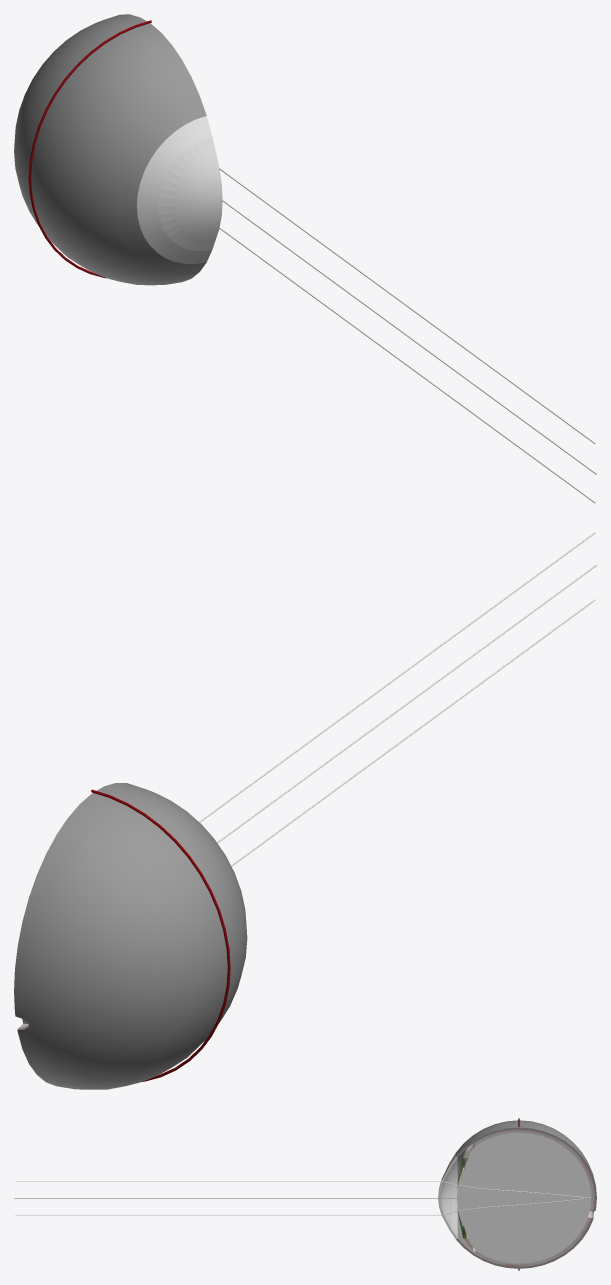
File: RegularEye.FBX
3 views of the same model, one above another, from view 1: azimuth 30°, elevation 25°; view 2: azimuth 150°, elevation 25°; view 3: azimuth 270°, elevation 25° (orthographic). The views are drawn at different scales.
Parts seen in each view (by area): view 1: bSclera, bCornea, pinEquator, Cylinder003, Cylinder004, Cylinder002; view 2: bSclera, pinEquator, Cylinder003, Cylinder002, Cylinder004; view 3: bCorpusVitreum, bSclera, bCornea, Cylinder004, bChoroidea, bLens, Cylinder003, bRetina, Cylinder002.
Part boxes in pixels (x1,y1,x2,y2): bSclera: (14, 14, 206, 285); bCornea: (137, 116, 222, 263); pinEquator: (28, 20, 151, 278); Cylinder003: (219, 168, 595, 444); Cylinder004: (219, 227, 595, 503); Cylinder002: (222, 200, 596, 474); bSclera: (14, 783, 247, 1089); pinEquator: (91, 789, 230, 1081); Cylinder003: (199, 532, 595, 822); Cylinder002: (217, 564, 596, 843); Cylinder004: (231, 599, 595, 866); bCorpusVitreum: (464, 1133, 590, 1263); bSclera: (456, 1120, 596, 1268); bCornea: (438, 1153, 457, 1239); Cylinder004: (15, 1198, 590, 1215); bChoroidea: (473, 1129, 594, 1266); bLens: (457, 1167, 474, 1226); Cylinder003: (15, 1181, 590, 1198); bRetina: (475, 1131, 592, 1264); Cylinder002: (14, 1198, 587, 1198).
Bounding box in the file's own units: 0.439 × 0.874 × 3.18.
